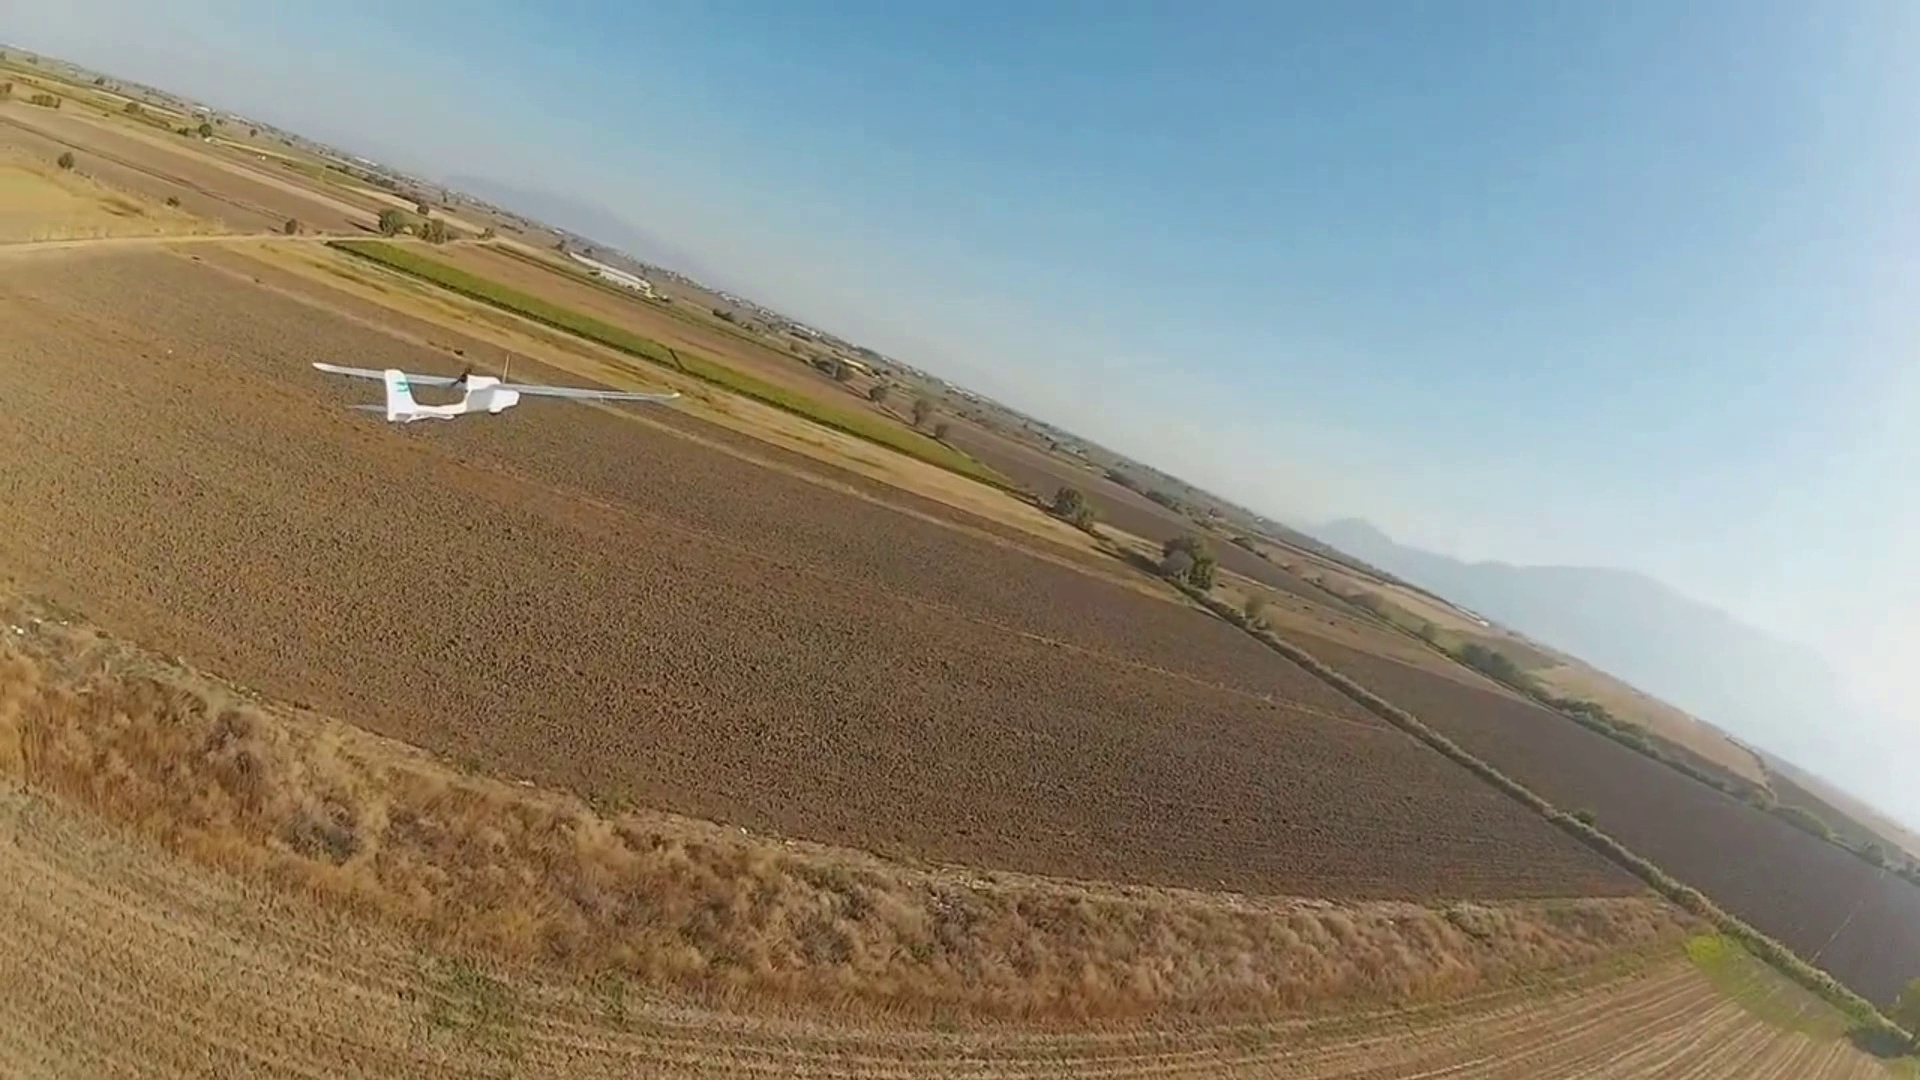airplane: (310, 359, 521, 423)
